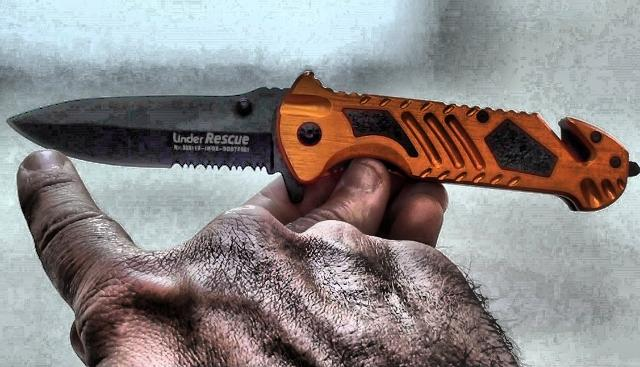knife: (0, 59, 382, 215)
